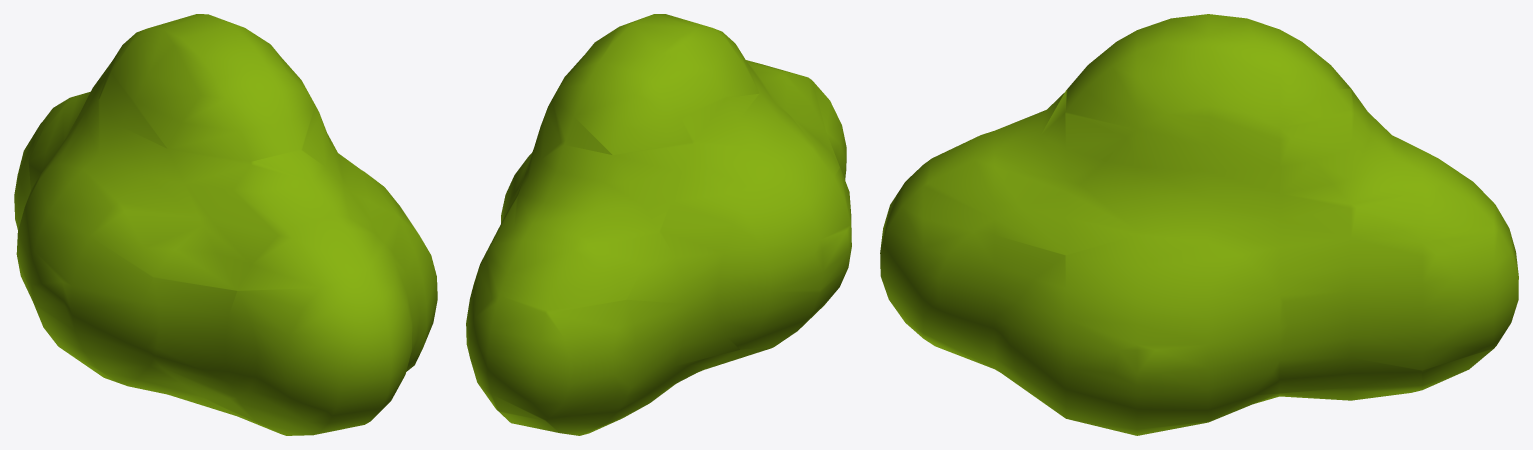
The model's file is Busch_001.fbx.
The picture shows the model from 3 angles, left to right: view 1: azimuth 30°, elevation 25°; view 2: azimuth 150°, elevation 25°; view 3: azimuth 270°, elevation 25°; orthographic projection. The views are drawn at different scales.
Visible parts, largest first — view 1: Busch 01; view 2: Busch 01; view 3: Busch 01.
Boxes of the visible parts, box(x1,y1,x2,y2) form: Busch 01: box(14, 14, 437, 435); Busch 01: box(466, 14, 851, 435); Busch 01: box(880, 14, 1518, 435).
Bounding box in the file's own units: 155 × 151 × 240.
